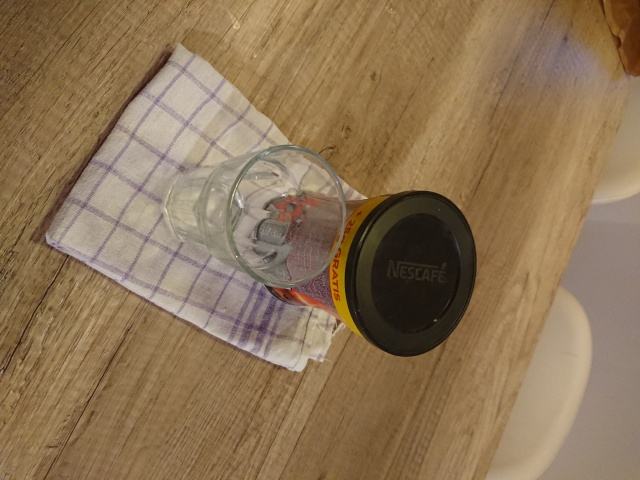Nescafe Classic 225g: (252, 187, 482, 361)
